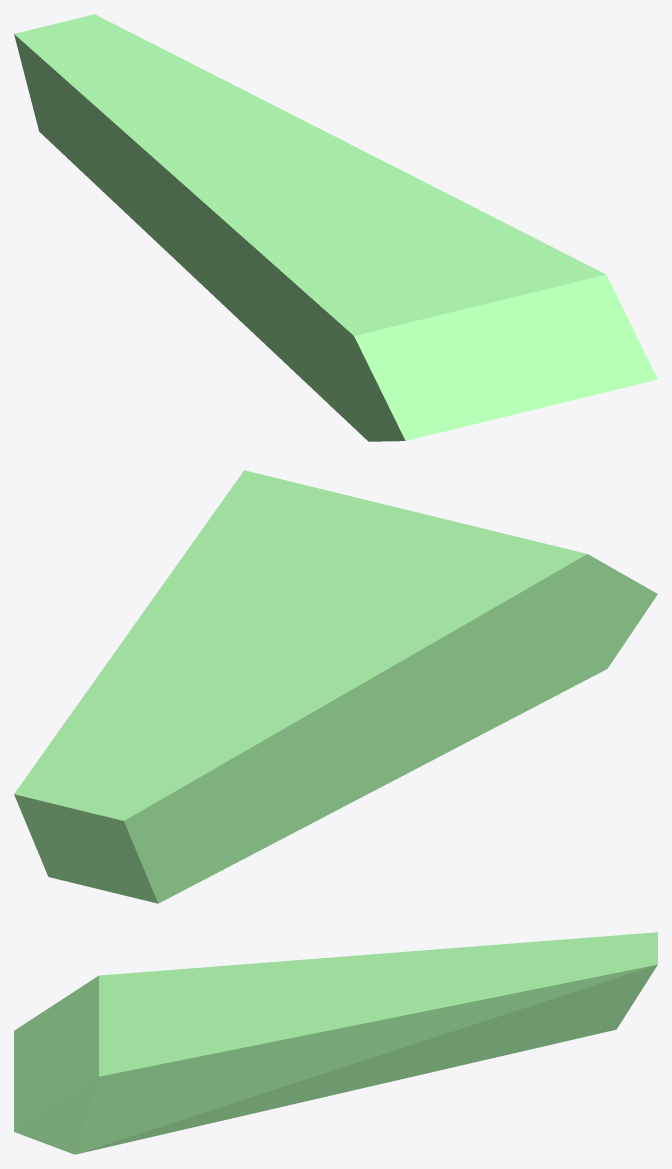
The model's file is dvkr_robot_Lp21_respondable_PSM1_coll_8.dae.
The picture shows the model from 3 angles, top to bottom: view 1: azimuth 30°, elevation 25°; view 2: azimuth 150°, elevation 25°; view 3: azimuth 270°, elevation 25°; orthographic projection. The views are drawn at different scales.
Visible parts, largest first — view 1: Node_0000023514CD9BB0; view 2: Node_0000023514CD9BB0; view 3: Node_0000023514CD9BB0.
Boxes of the visible parts, bbox=[...] form: Node_0000023514CD9BB0: bbox=[14, 14, 657, 441]; Node_0000023514CD9BB0: bbox=[14, 470, 657, 903]; Node_0000023514CD9BB0: bbox=[14, 932, 657, 1154].
Size of the model in its own units: 0.025 by 0.014 by 0.0673.
